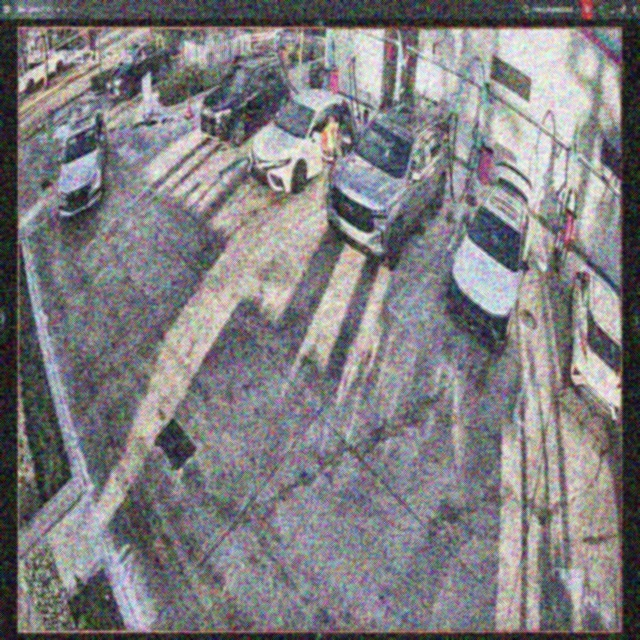Car: (330, 99, 449, 268), (452, 165, 531, 346), (247, 90, 359, 191), (201, 51, 291, 149)
